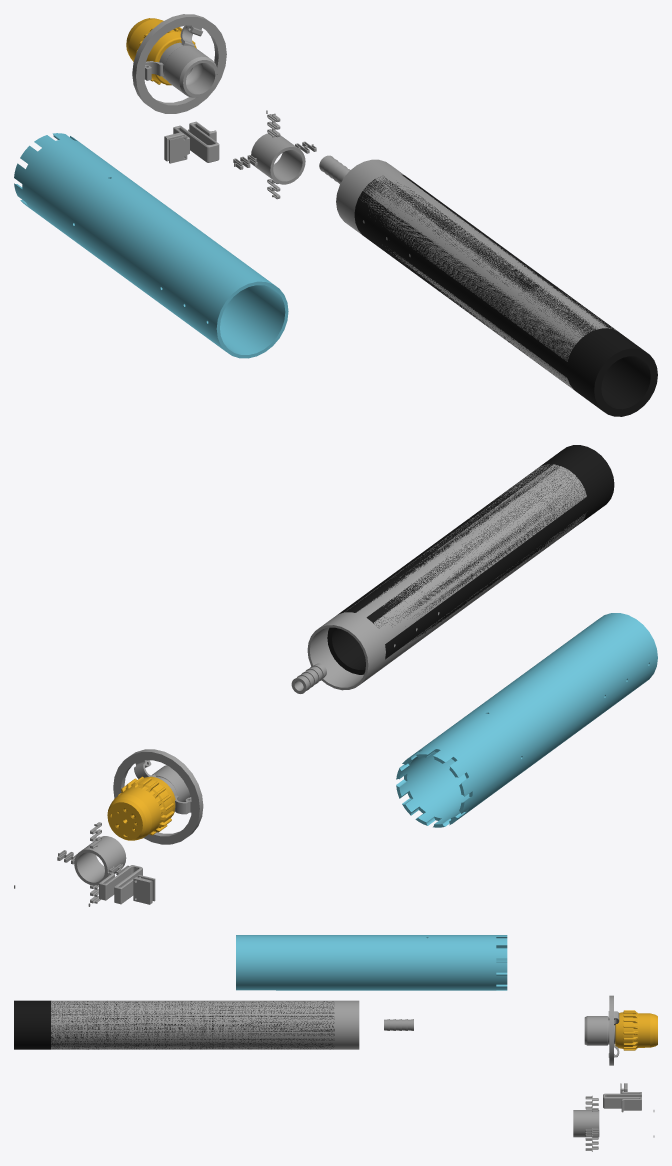
Rendered from nozzles-v2.glb.
The picture shows the model from 3 angles, top to bottom: view 1: azimuth 30°, elevation 25°; view 2: azimuth 150°, elevation 25°; view 3: azimuth 270°, elevation 25°; orthographic projection. The views are drawn at different scales.
Parts seen in each view (by area): view 1: =>[0:1:1:4], holders v1:1, NOZZLE:1; view 2: =>[0:1:1:4], holders v1:1, NOZZLE:1; view 3: =>[0:1:1:4], holders v1:1, NOZZLE:1.
Boxes of the visible parts, x1,y1,x2,y2 form: =>[0:1:1:4]: (14,45,657,416); holders v1:1: (132,14,316,199); NOZZLE:1: (126,18,196,85); =>[0:1:1:4]: (152,445,657,827); holders v1:1: (14,749,203,906); NOZZLE:1: (107,776,175,840); =>[0:1:1:4]: (14,935,607,1049); holders v1:1: (573,995,654,1151); NOZZLE:1: (615,1010,657,1050).
Bounding box in the file's own units: 0.2274 × 0.113 × 0.522.
